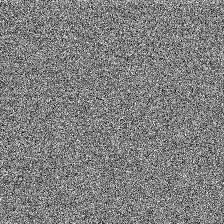cavities: (95, 75, 161, 123)
